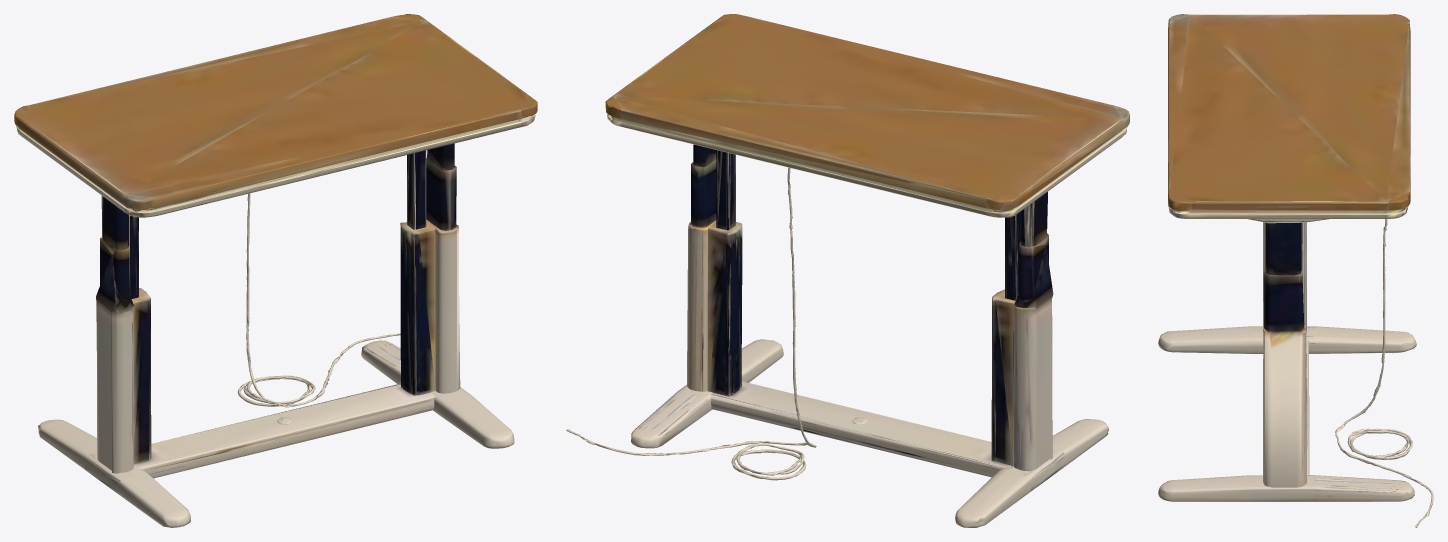
The model's file is desk_standing.glb.
3 renders of one model, left to right at view 1: azimuth 30°, elevation 25°; view 2: azimuth 150°, elevation 25°; view 3: azimuth 270°, elevation 25°, orthographic. The views are drawn at different scales.
Parts seen in each view (by area): view 1: prop; view 2: prop; view 3: prop.
Part boxes in pixels (box(x1,y1,x2,y2)): prop: box(14, 14, 537, 527); prop: box(566, 14, 1129, 527); prop: box(1158, 14, 1433, 527).
Size of the model in its own units: 1.5 by 1.09 by 0.862.
1 material, 1 textured.
